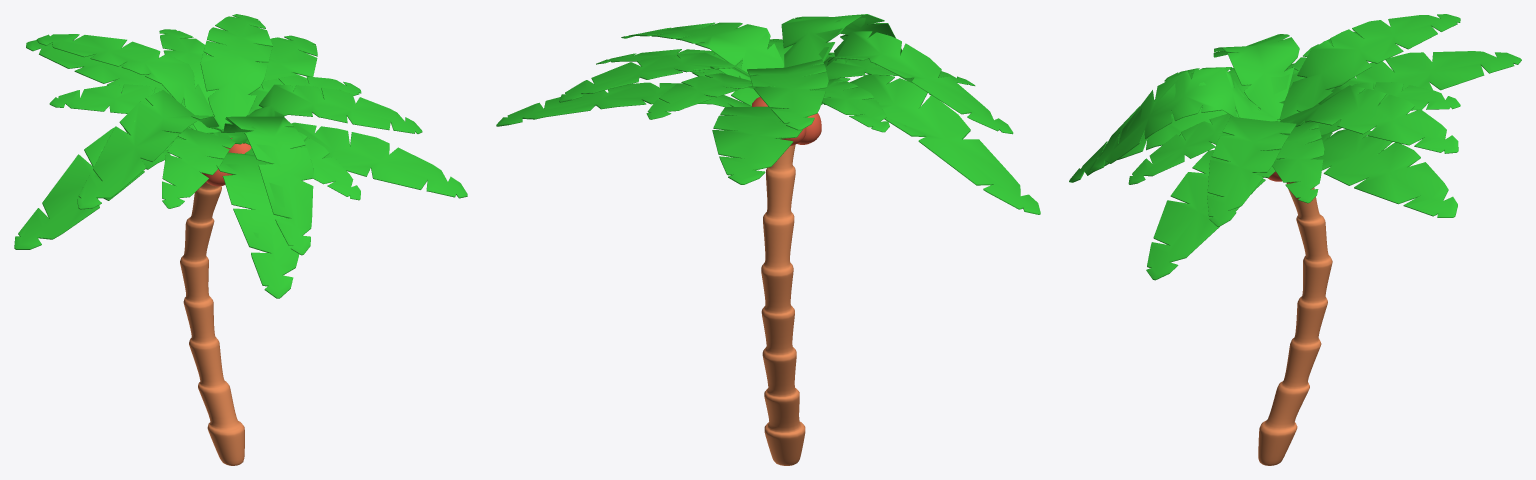
The model's file is PalmTree.fbx.
3 renders of one model, left to right at view 1: azimuth 30°, elevation 25°; view 2: azimuth 150°, elevation 25°; view 3: azimuth 270°, elevation 25°, orthographic. The views are drawn at different scales.
Visible parts, largest first — view 1: palmfeet; view 2: palmfeet; view 3: palmfeet.
Part boxes in pixels (x1,y1,x2,y2): palmfeet: (14, 14, 467, 465); palmfeet: (496, 14, 1040, 465); palmfeet: (1069, 14, 1521, 465).
Bounding box in the file's own units: 3440 × 3198 × 3292.
